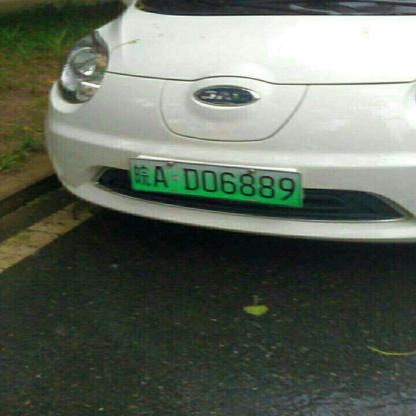lp: (129, 159, 303, 207)
